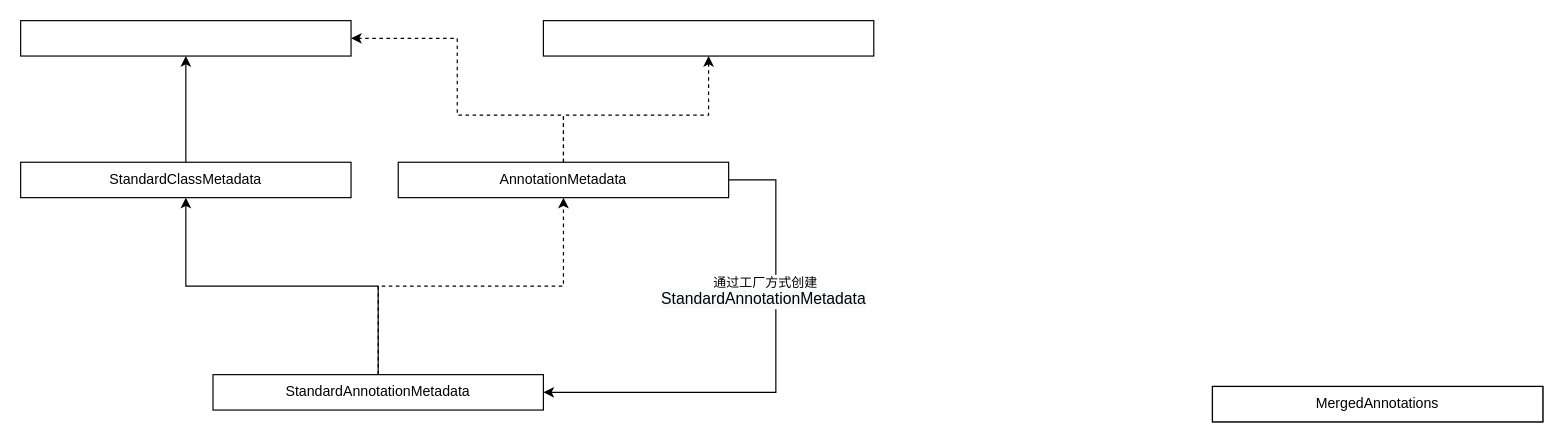
Image size: 1563x442. Some labels were removed from this diagram. The shapes that lost their labels are listed below. From the top down, each one's centre as x and y in pixels, then its label:
the point at 185,37: ClassMetadata
the point at 708,37: AnnotatedTypeMetadata
